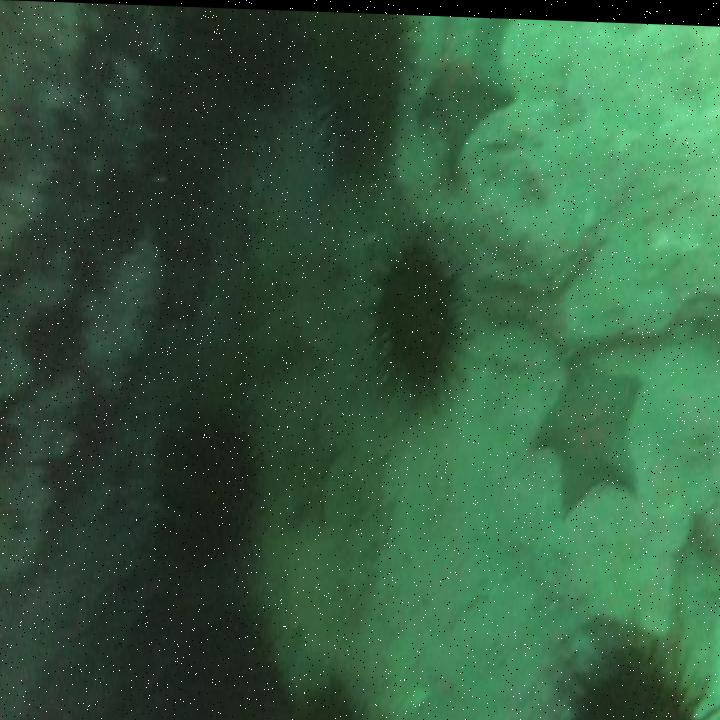echinus: (375, 244, 461, 394), (178, 597, 278, 720), (170, 425, 257, 559), (326, 38, 400, 168), (578, 646, 705, 720)
starfish: (532, 346, 640, 509), (425, 44, 513, 159)
